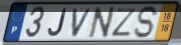3: (23, 5, 46, 41)
J: (47, 7, 68, 38)
N: (88, 6, 117, 40)
S: (132, 5, 161, 40)
V: (71, 7, 94, 38)
Z: (111, 7, 139, 37)
